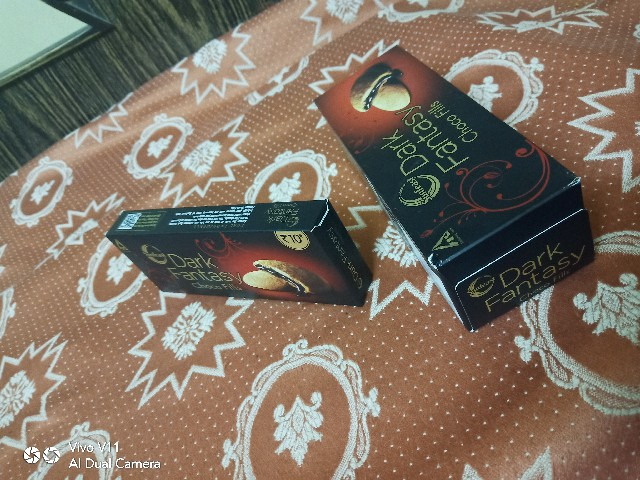darkfantasy big: (314, 41, 598, 336)
darkfantasy small: (98, 188, 368, 353)
